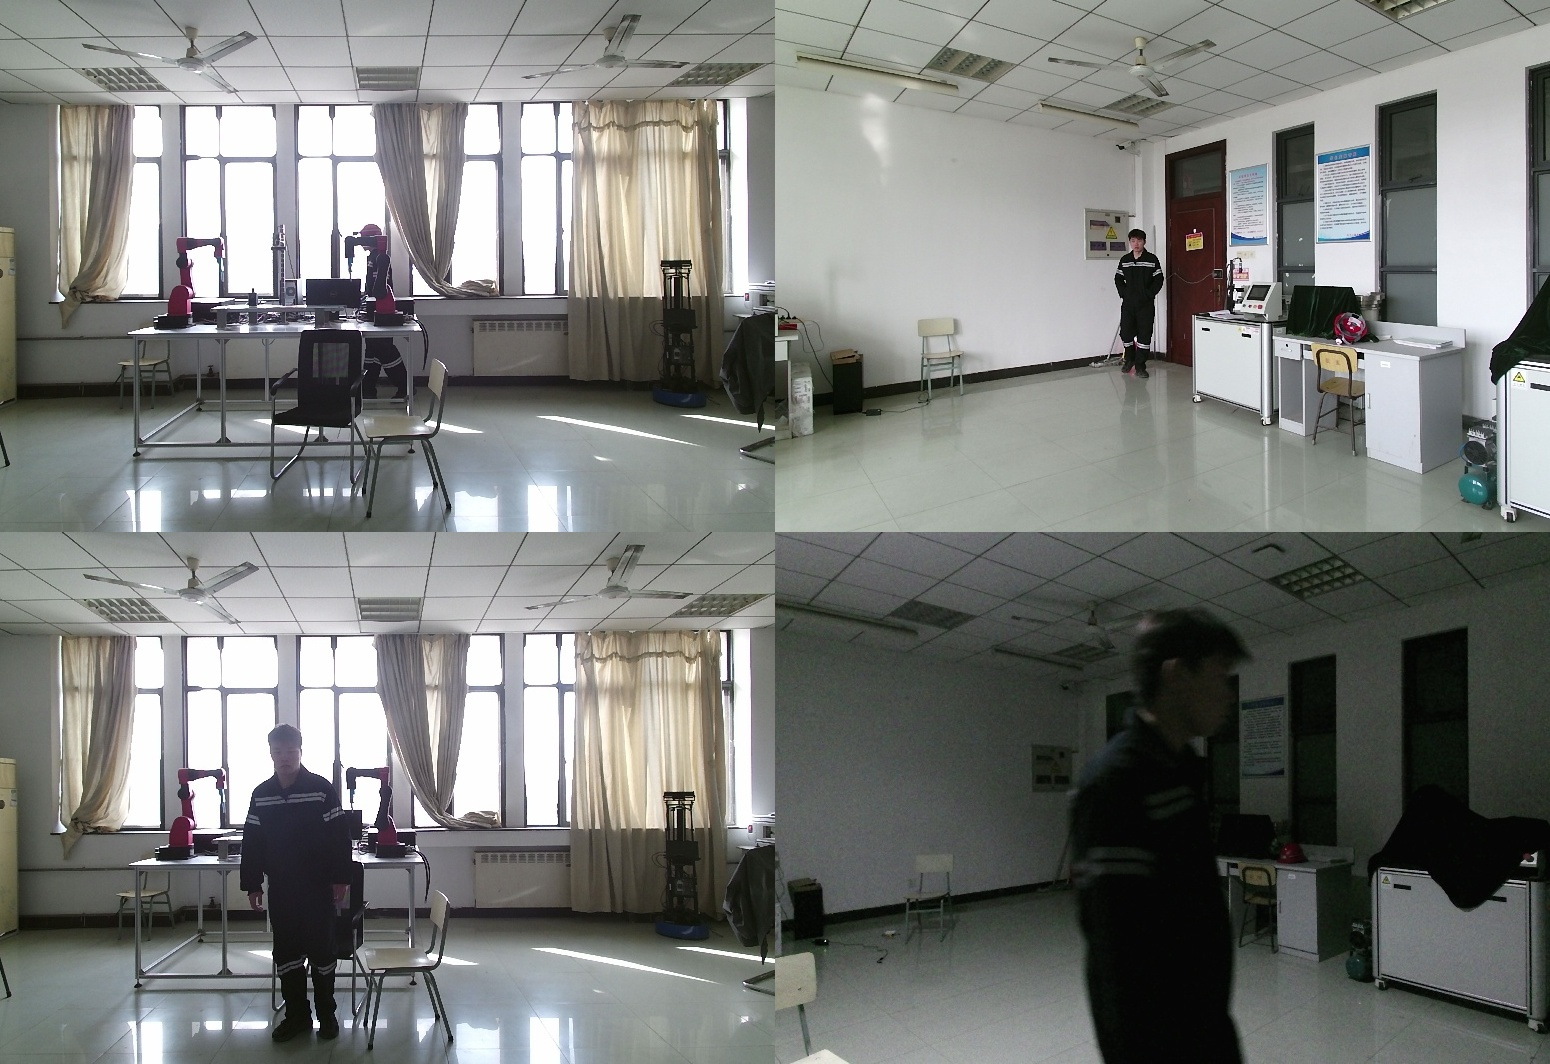person: (1061, 609, 1256, 1064), (242, 723, 361, 1039), (352, 224, 416, 403), (1111, 229, 1163, 382)
